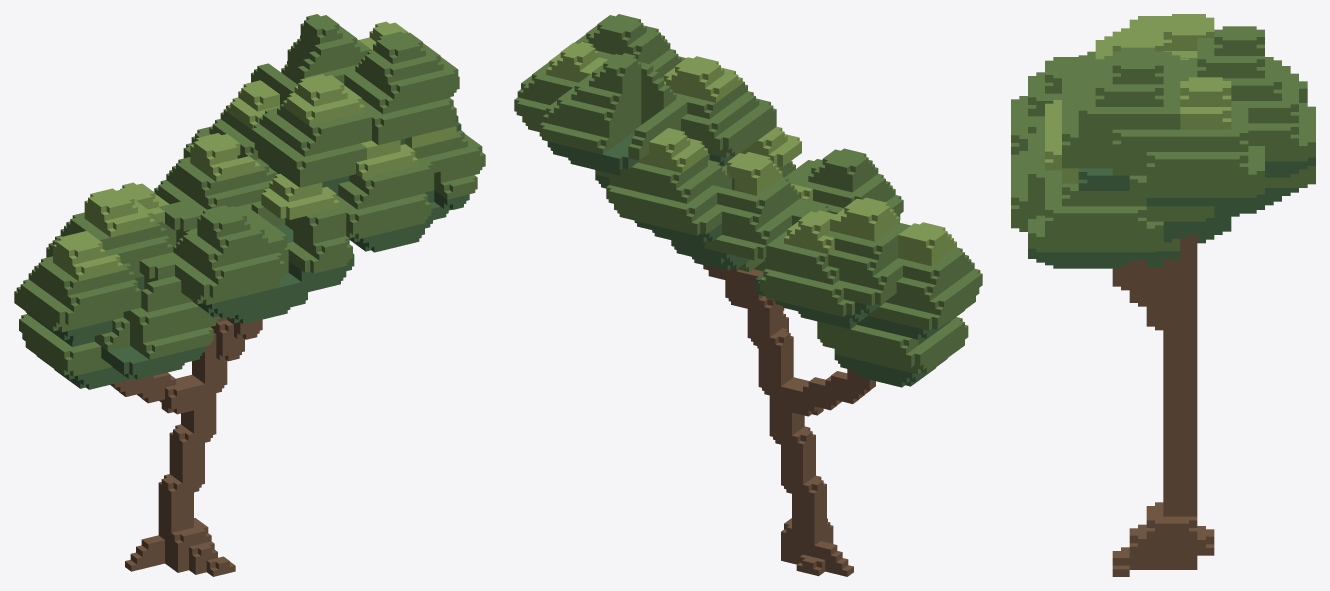
File: hearthvale_tree_wind.obj
3 views of the same model, side by side, from view 1: azimuth 30°, elevation 25°; view 2: azimuth 150°, elevation 25°; view 3: azimuth 270°, elevation 25° (orthographic). The views are drawn at different scales.
Visible parts, largest first — view 1: palette_2, palette_4, palette_1, palette_3; view 2: palette_2, palette_1, palette_4, palette_3; view 3: palette_2, palette_1, palette_4, palette_3.
Boxes of the visible parts, x1,y1,x2,y2 form: palette_2: (14, 14, 485, 376); palette_4: (53, 21, 456, 281); palette_1: (110, 317, 262, 576); palette_3: (25, 115, 469, 389); palette_2: (514, 14, 982, 374); palette_1: (703, 265, 875, 576); palette_4: (546, 41, 956, 265); palette_3: (547, 132, 964, 387); palette_2: (1011, 26, 1315, 252); palette_1: (1112, 234, 1214, 576); palette_4: (1045, 14, 1231, 183); palette_3: (1028, 157, 1315, 268).
Bounding box in the file's own units: 4.62 × 5.12 × 2.25.
